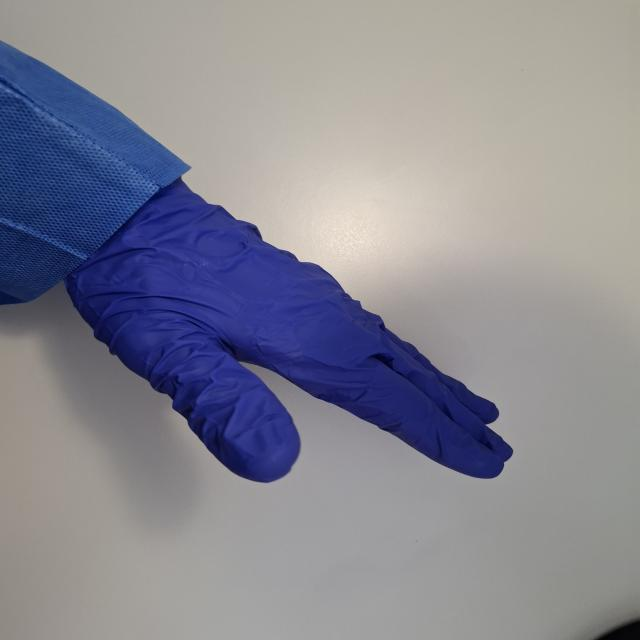glove_on: (57, 168, 521, 486)
